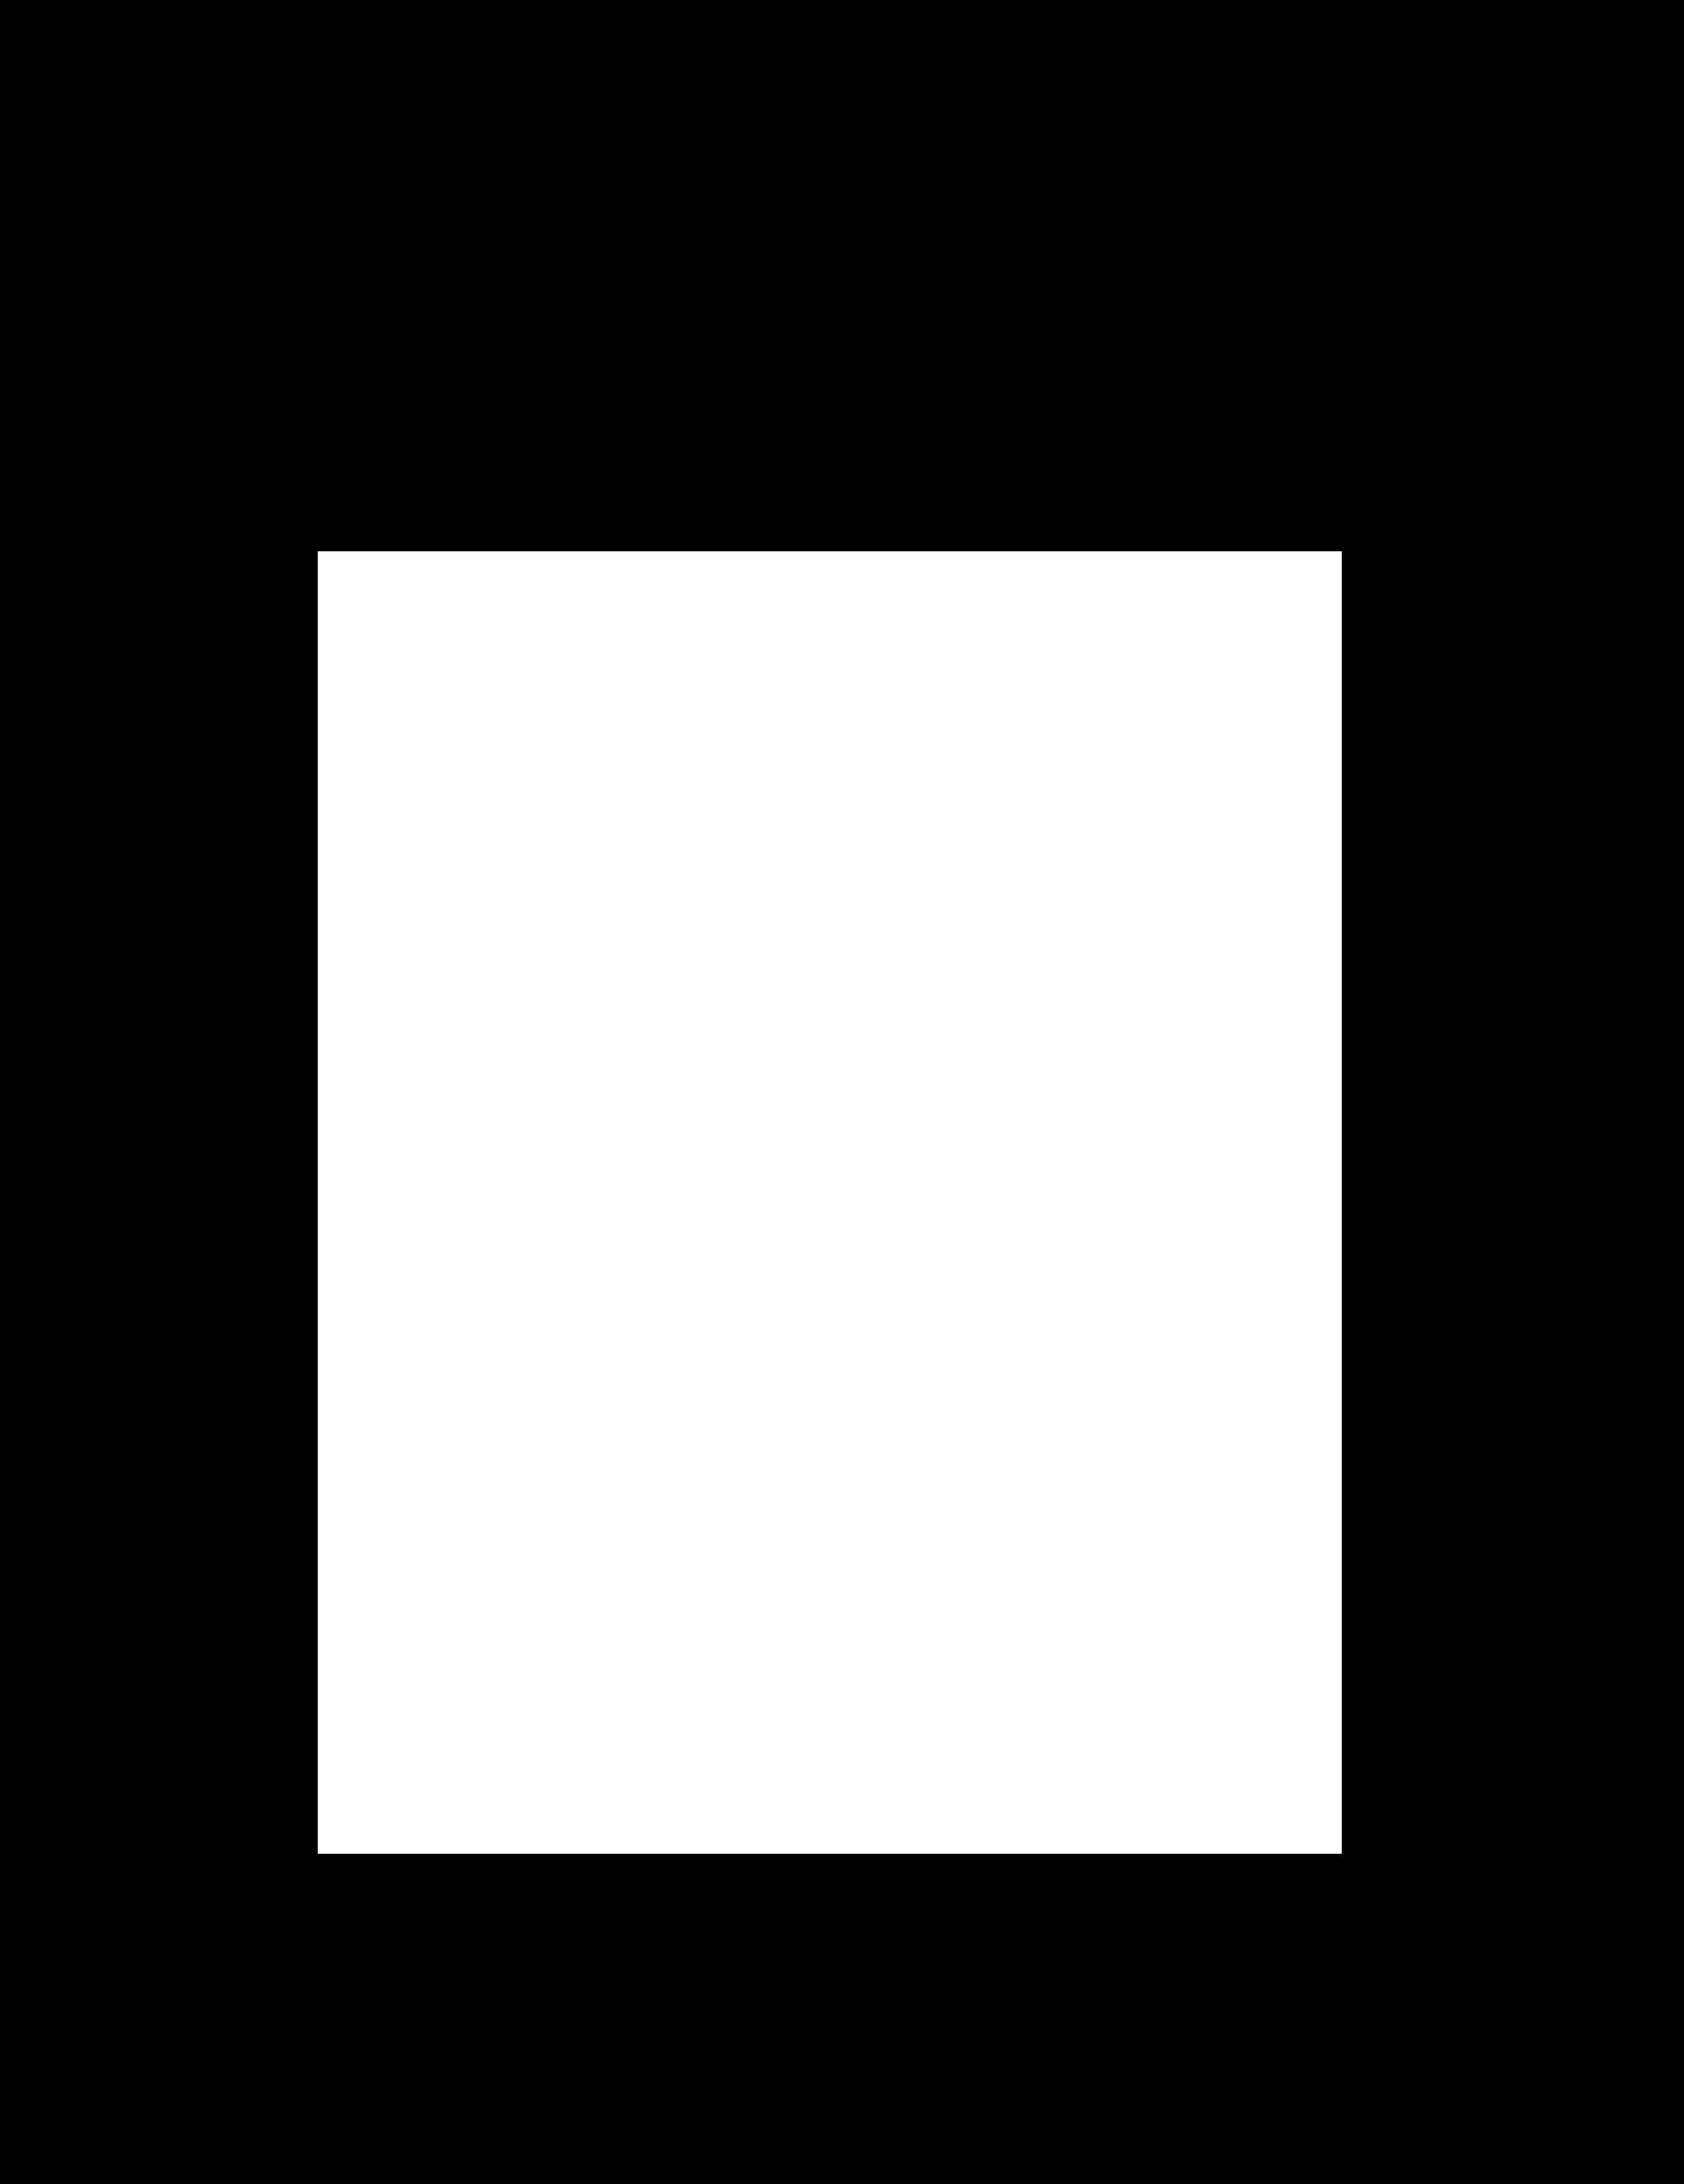table: (318, 552, 1341, 1853)
